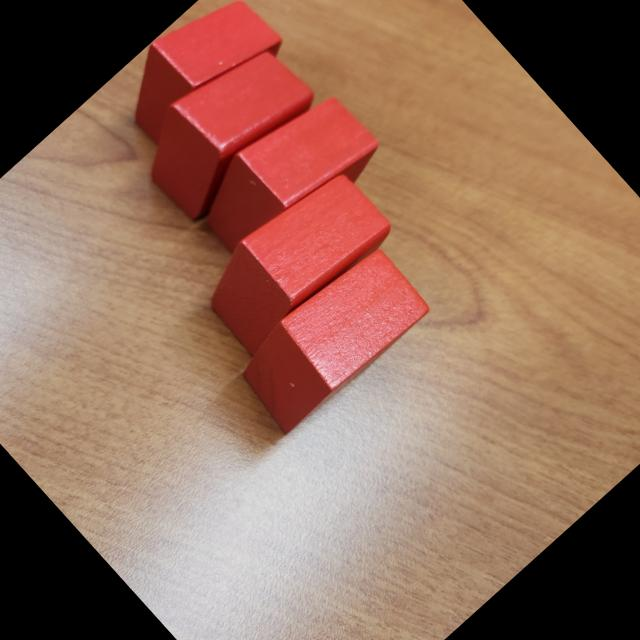red: (178, 72, 396, 282), (184, 156, 400, 364), (117, 24, 331, 232), (224, 236, 434, 438), (105, 0, 290, 154)
